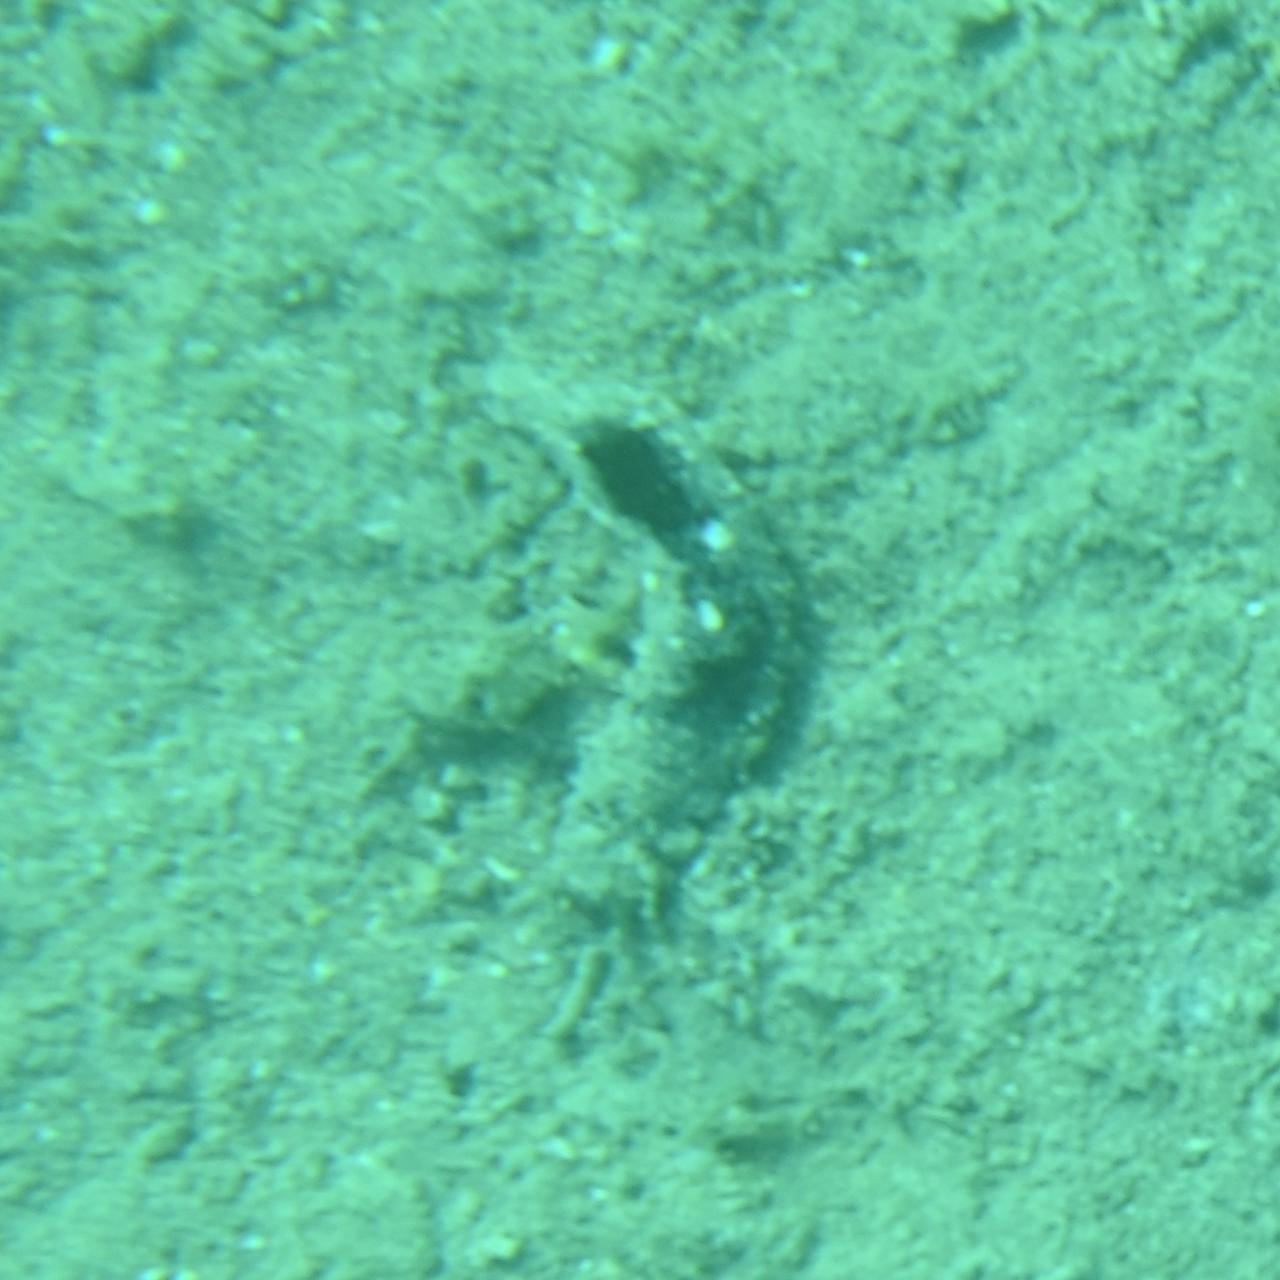Holothuria tubulosa: (440, 343, 840, 937)
